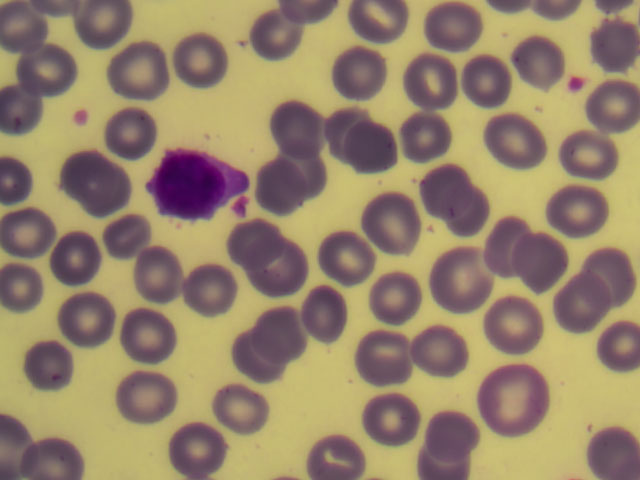Platelets: (71, 108, 98, 130), (567, 75, 591, 92)
RBC: (475, 364, 555, 438), (481, 295, 551, 360), (15, 40, 76, 99), (104, 42, 165, 101), (169, 33, 230, 92), (102, 106, 163, 165), (66, 154, 127, 213), (1, 203, 62, 262), (37, 222, 98, 281), (60, 286, 121, 345), (128, 251, 189, 310), (101, 208, 162, 267), (181, 261, 242, 320), (230, 213, 291, 272), (259, 247, 320, 306), (317, 228, 378, 287), (254, 159, 315, 218), (277, 143, 338, 202), (271, 94, 332, 153), (318, 96, 379, 155), (344, 120, 405, 179), (330, 49, 391, 108), (253, 8, 314, 67), (401, 52, 462, 111), (456, 50, 517, 109), (421, 3, 482, 62), (508, 36, 569, 95), (398, 110, 459, 169), (478, 111, 539, 170), (419, 158, 480, 217), (370, 191, 431, 250), (301, 286, 362, 345), (253, 303, 314, 362), (228, 324, 289, 383), (215, 381, 276, 440), (170, 421, 231, 480), (114, 366, 175, 425), (123, 306, 184, 365), (20, 336, 81, 395), (26, 421, 87, 480), (301, 421, 362, 480), (358, 393, 419, 452), (353, 331, 414, 390), (404, 324, 465, 383), (374, 267, 435, 326), (432, 250, 493, 309), (476, 213, 537, 272), (446, 185, 507, 244), (512, 236, 573, 295), (548, 179, 609, 238), (556, 127, 617, 186), (1, 264, 61, 323), (349, 1, 410, 59), (582, 426, 640, 477), (72, 1, 129, 46), (590, 82, 640, 130), (590, 17, 640, 65), (590, 250, 640, 298), (557, 280, 607, 328), (590, 326, 640, 374), (1, 1, 49, 46)
WBC: (147, 143, 247, 227)
